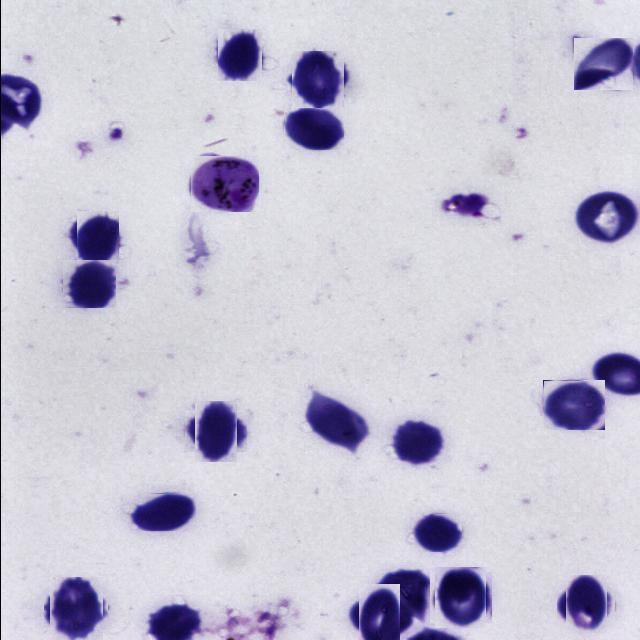difficult: (189, 155, 258, 212)
red blood cell: (571, 190, 639, 246), (308, 392, 368, 450), (46, 580, 104, 638), (432, 569, 488, 626), (542, 380, 604, 430), (573, 38, 632, 90), (289, 52, 345, 106), (376, 569, 433, 618), (350, 590, 405, 640), (189, 405, 241, 457), (61, 259, 116, 308), (283, 106, 343, 150), (388, 420, 444, 466), (128, 493, 195, 531), (560, 579, 610, 629), (216, 30, 264, 80), (73, 213, 121, 261), (412, 513, 461, 552)
